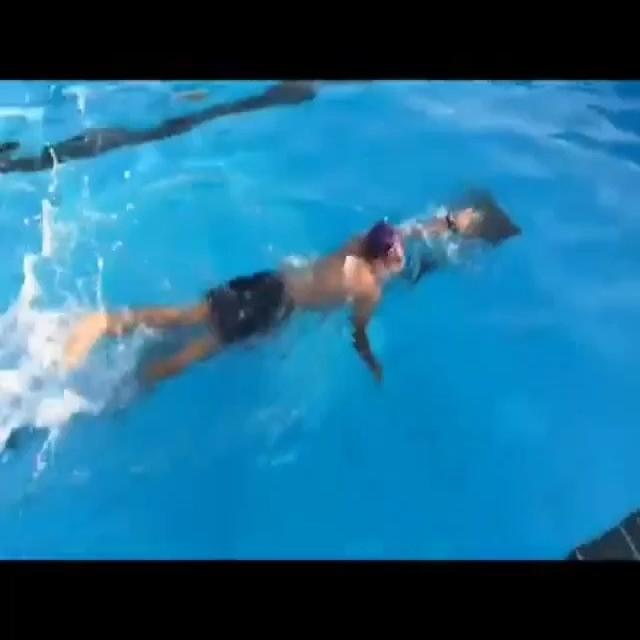Swimming: (54, 178, 498, 422)
